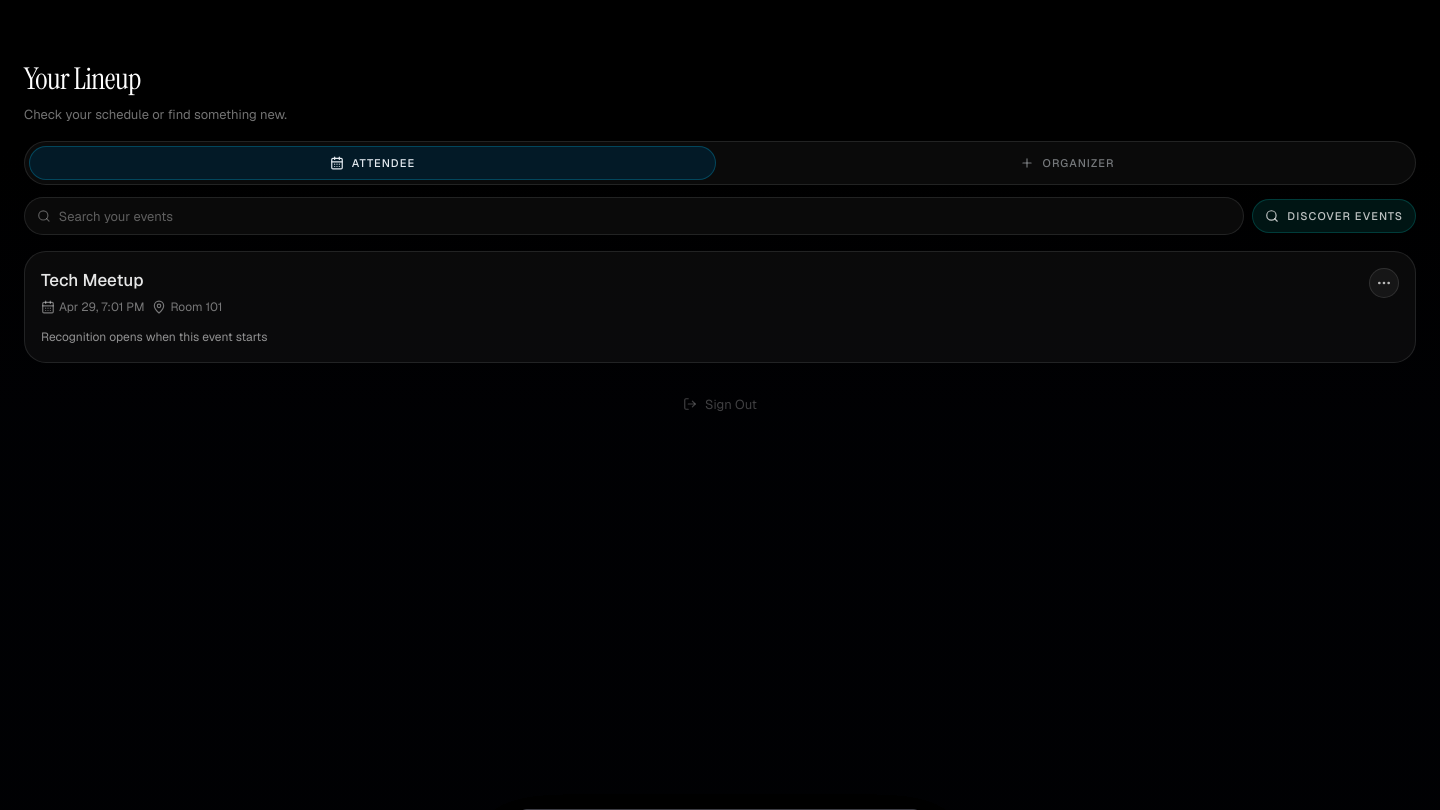
Test: DashboardPage › switches back to attendee tab
Click the button "Organizer".
click(1068, 163)  # box [724,146,1411,180]
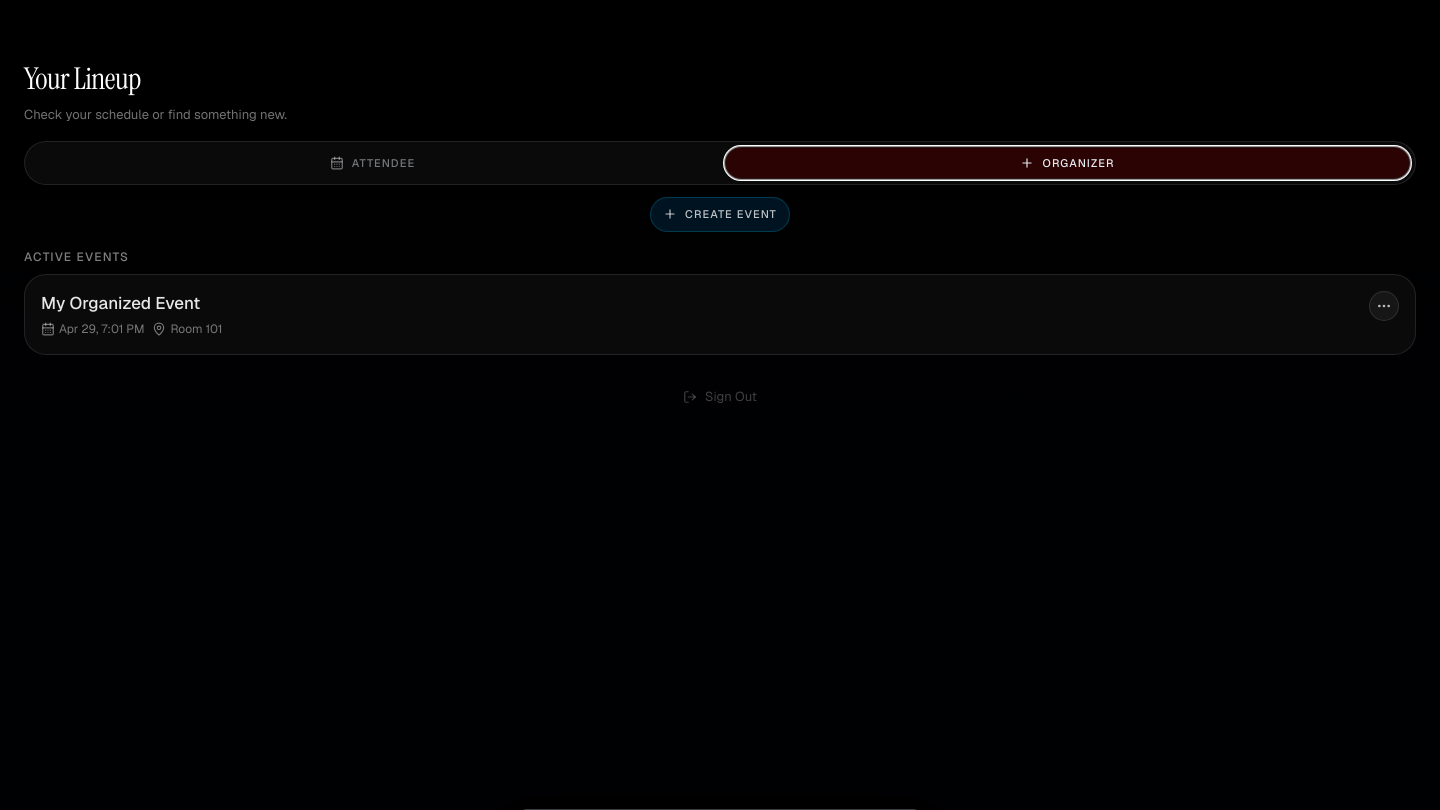
Click the button "Attendee".
click(372, 163)  # box [29,146,716,180]
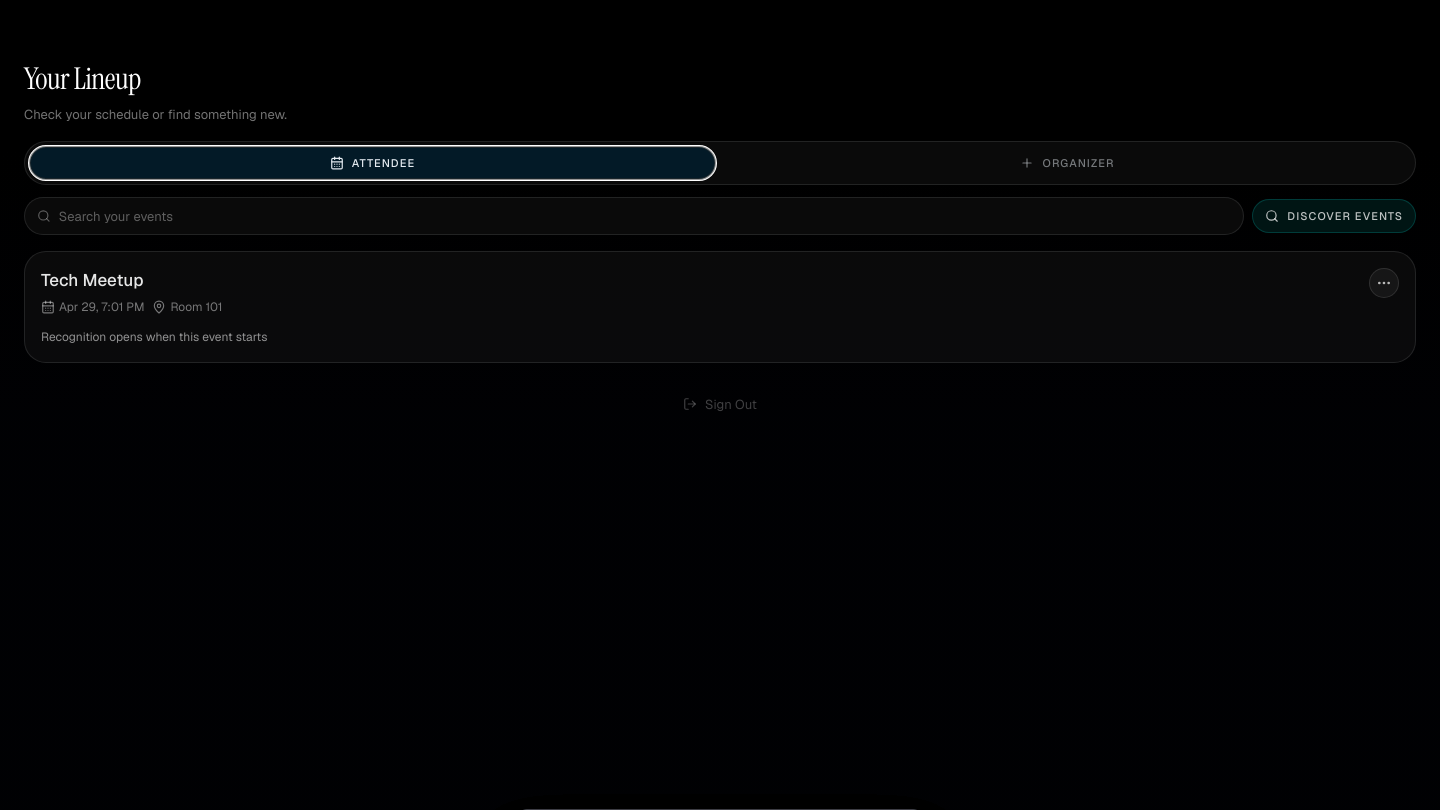
Now the heading "Tech Meetup" is shown, box [41,269,144,291]
